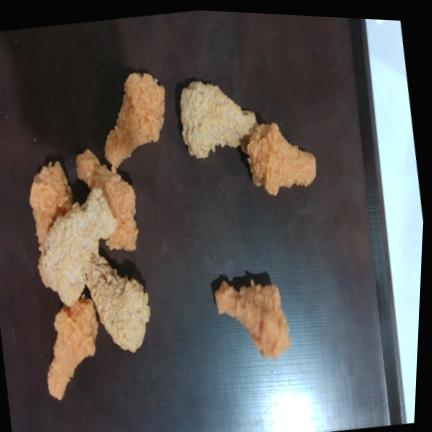chicken: (31, 150, 151, 352), (41, 189, 117, 305), (76, 149, 138, 251), (215, 280, 290, 359), (180, 81, 256, 158), (105, 73, 165, 168), (241, 123, 316, 195), (48, 295, 98, 400), (30, 162, 73, 252)
